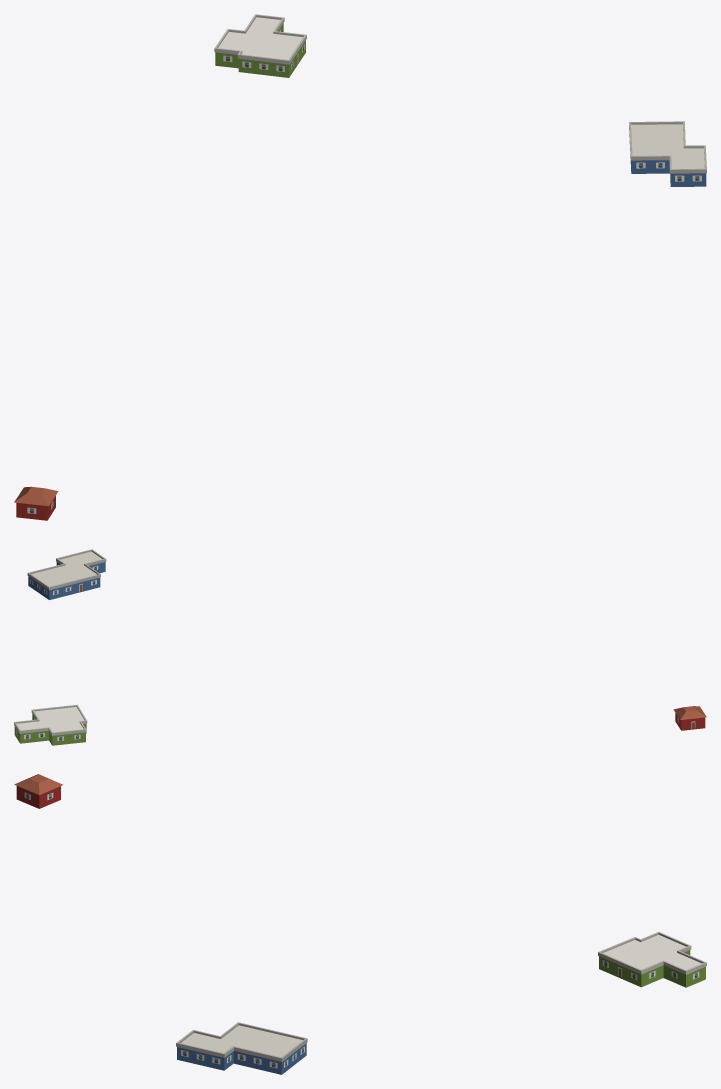
The model's file is msb_sannicolas_22_27.glb.
3 renders of one model, top to bottom at view 1: azimuth 30°, elevation 25°; view 2: azimuth 150°, elevation 25°; view 3: azimuth 270°, elevation 25°, orthographic. The views are drawn at different scales.
Visible parts, largest first — view 1: msb_sannicolas_22_27_lod0; view 2: msb_sannicolas_22_27_lod0; view 3: msb_sannicolas_22_27_lod0.
Boxes of the visible parts, x1=… form: msb_sannicolas_22_27_lod0: x1=14, y1=14, x2=706, y2=520; msb_sannicolas_22_27_lod0: x1=14, y1=549, x2=706, y2=745; msb_sannicolas_22_27_lod0: x1=14, y1=774, x2=706, y2=1074.
Size of what is drawn, in the model's own units: 188 by 24.75 by 147.
Materials: 3 (1 with a texture image).
